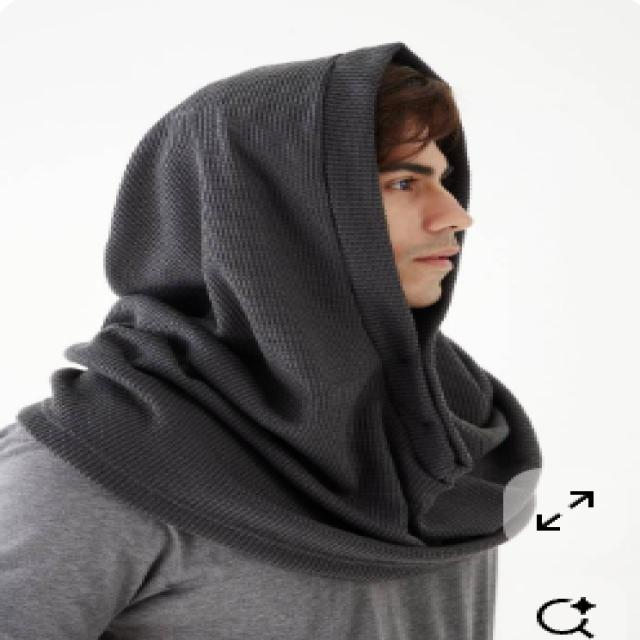4_capucha: (99, 41, 470, 389)
